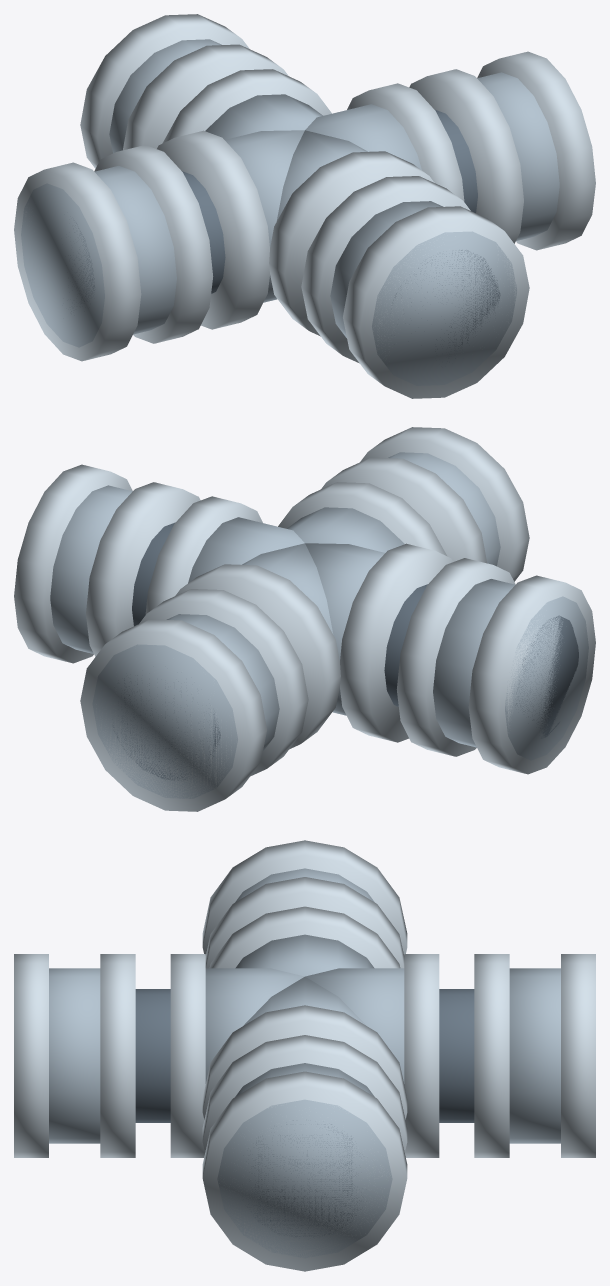
Rendered from pipe_cross.glb.
3 views of the same model, one above another, from view 1: azimuth 30°, elevation 25°; view 2: azimuth 150°, elevation 25°; view 3: azimuth 270°, elevation 25° (orthographic). The views are drawn at different scales.
Visible parts, largest first — view 1: Pipe_Collar.004, Pipe_Shell.004, Pipe_Water.004; view 2: Pipe_Collar.004, Pipe_Shell.004, Pipe_Water.004; view 3: Pipe_Collar.004, Pipe_Shell.004, Pipe_Water.004.
Part boxes in pixels (bbox=[...]): Pipe_Collar.004: bbox=[14, 14, 595, 398]; Pipe_Shell.004: bbox=[21, 39, 559, 385]; Pipe_Water.004: bbox=[68, 109, 500, 362]; Pipe_Collar.004: bbox=[14, 427, 595, 811]; Pipe_Shell.004: bbox=[50, 452, 588, 798]; Pipe_Water.004: bbox=[113, 522, 578, 780]; Pipe_Collar.004: bbox=[14, 840, 595, 1271]; Pipe_Shell.004: bbox=[49, 868, 560, 1258]; Pipe_Water.004: bbox=[135, 989, 474, 1237].
Size of the model in its own units: 0.996 by 0.35 by 0.996.
